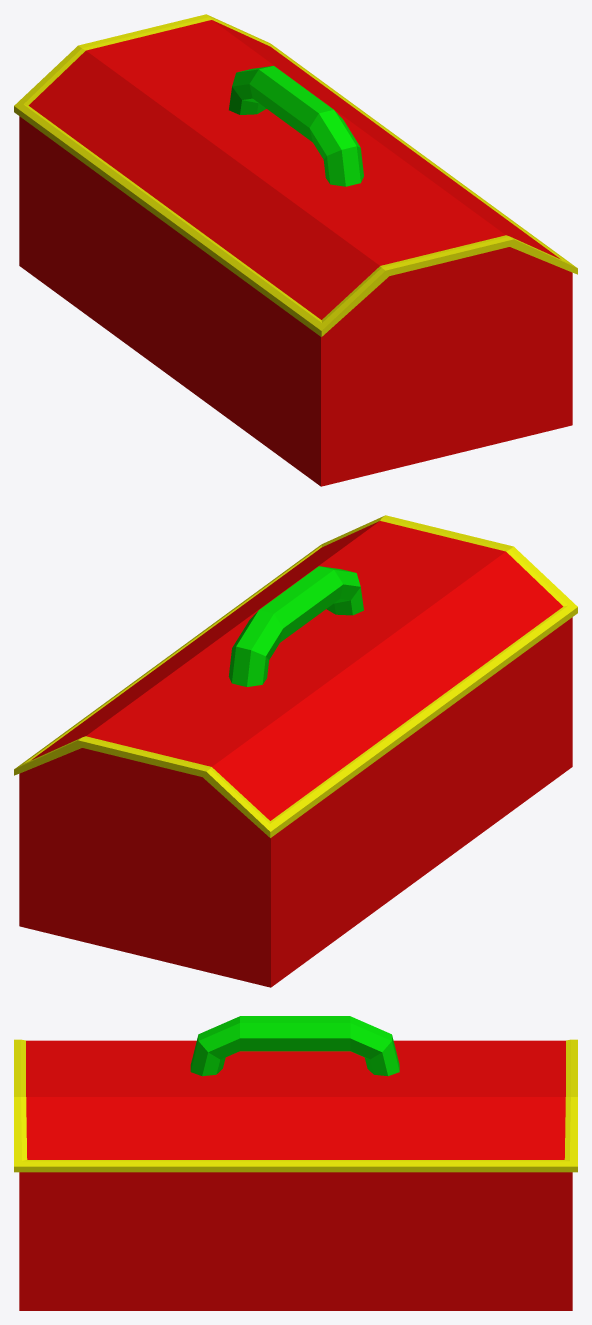
The model's file is Toolbox.fbx.
The picture shows the model from 3 angles, top to bottom: view 1: azimuth 30°, elevation 25°; view 2: azimuth 150°, elevation 25°; view 3: azimuth 270°, elevation 25°; orthographic projection. The views are drawn at different scales.
Visible parts, largest first — view 1: pCube36; view 2: pCube36; view 3: pCube36.
Boxes of the visible parts, box(x1,y1,x2,y2) form: pCube36: box(14, 14, 577, 486); pCube36: box(14, 515, 577, 987); pCube36: box(14, 1016, 577, 1310).
Size of the model in its own units: 0.883 by 0.8432 by 1.83.
